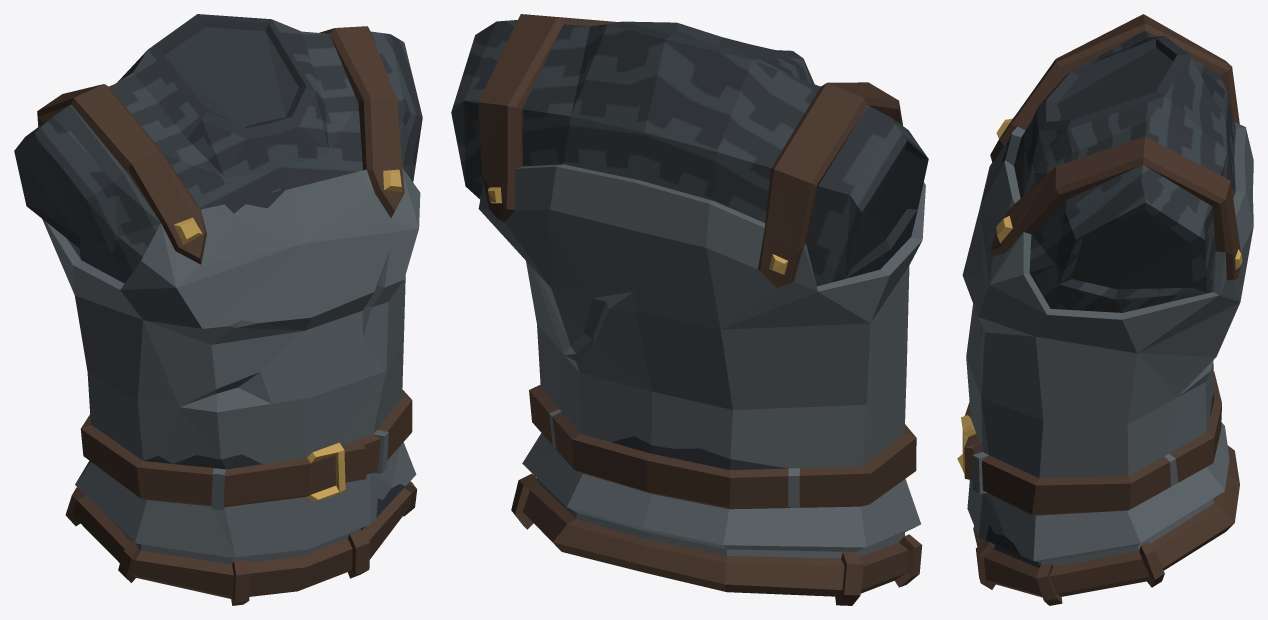
File: Chr_Torso_Male_17_Static.fbx
3 views of the same model, side by side, from view 1: azimuth 30°, elevation 25°; view 2: azimuth 150°, elevation 25°; view 3: azimuth 270°, elevation 25° (orthographic). The views are drawn at different scales.
Parts seen in each view (by area): view 1: Chr_Torso_Male_17_Static; view 2: Chr_Torso_Male_17_Static; view 3: Chr_Torso_Male_17_Static.
Boxes of the visible parts, x1,y1,x2,y2 form: Chr_Torso_Male_17_Static: (14,14,422,605); Chr_Torso_Male_17_Static: (451,14,928,605); Chr_Torso_Male_17_Static: (957,14,1253,605).
Size of the model in its own units: 0.502 by 0.655 by 0.3487.
